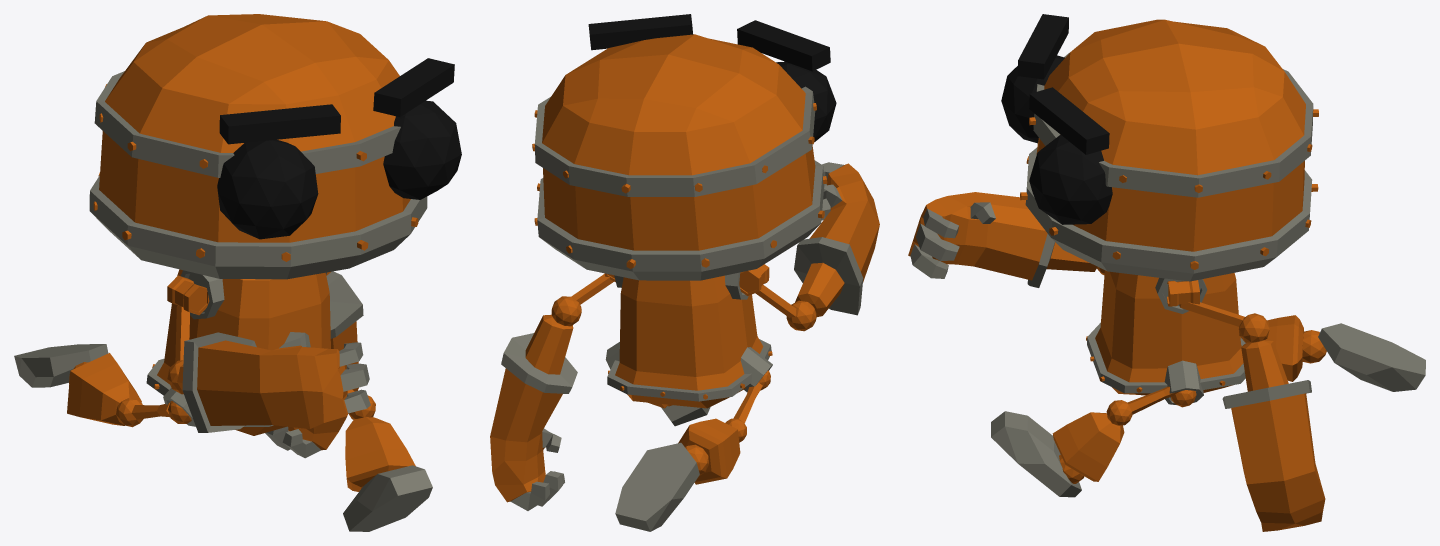
Rendered from Robot_000002.obj.
The picture shows the model from 3 angles, left to right: view 1: azimuth 30°, elevation 25°; view 2: azimuth 150°, elevation 25°; view 3: azimuth 270°, elevation 25°; orthographic projection. The views are drawn at different scales.
Visible parts, largest first — view 1: Head_Cylinder, Hand.R_Cylinder.015, Torso_Cube.001, Foot.L_Cylinder.014, Hand.L_Cylinder.022, LowerLeg.R_Cylinder.018, LowerLeg.L_Cylinder.012, Foot.R_Cylinder.017, Shoulder.R_Cylinder.009, Leg.R_Cylinder.019, Arm.R_Cylinder.013; view 2: Head_Cylinder, Torso_Cube.001, Hand.L_Cylinder.022, Hand.R_Cylinder.015, Foot.R_Cylinder.017, LowerLeg.R_Cylinder.018, Arm.L_Cylinder.010, Arm.R_Cylinder.013, Leg.R_Cylinder.019, Shoulder.R_Cylinder.009, Foot.L_Cylinder.014; view 3: Head_Cylinder, Torso_Cube.001, Hand.L_Cylinder.022, Hand.R_Cylinder.015, Foot.R_Cylinder.017, Foot.L_Cylinder.014, LowerLeg.L_Cylinder.012, LowerLeg.R_Cylinder.018, Arm.L_Cylinder.010, Leg.L_Cylinder.011, Shoulder.L_Cylinder.008.
Boxes of the visible parts, x1,y1,x2,y2 form: Head_Cylinder: [89, 14, 461, 279]; Hand.R_Cylinder.015: [177, 332, 370, 432]; Torso_Cube.001: [146, 269, 330, 435]; Foot.L_Cylinder.014: [343, 465, 432, 531]; Hand.L_Cylinder.022: [265, 271, 363, 458]; LowerLeg.R_Cylinder.018: [67, 353, 141, 425]; LowerLeg.L_Cylinder.012: [345, 416, 415, 491]; Foot.R_Cylinder.017: [14, 344, 108, 387]; Shoulder.R_Cylinder.009: [167, 275, 209, 315]; Leg.R_Cylinder.019: [116, 398, 169, 427]; Arm.R_Cylinder.013: [167, 305, 189, 394]; Head_Cylinder: [532, 14, 836, 280]; Torso_Cube.001: [605, 272, 772, 408]; Hand.L_Cylinder.022: [490, 314, 577, 510]; Hand.R_Cylinder.015: [794, 162, 879, 317]; Foot.R_Cylinder.017: [615, 442, 699, 531]; LowerLeg.R_Cylinder.018: [678, 418, 740, 484]; Arm.L_Cylinder.010: [551, 273, 613, 326]; Arm.R_Cylinder.013: [755, 285, 816, 331]; Leg.R_Cylinder.019: [725, 382, 762, 442]; Shoulder.R_Cylinder.009: [739, 264, 769, 295]; Foot.L_Cylinder.014: [661, 405, 710, 426]; Head_Cylinder: [1001, 14, 1318, 281]; Torso_Cube.001: [1086, 270, 1245, 407]; Hand.L_Cylinder.022: [1222, 339, 1325, 531]; Hand.R_Cylinder.015: [908, 192, 1097, 287]; Foot.R_Cylinder.017: [1318, 323, 1425, 391]; Foot.L_Cylinder.014: [991, 411, 1081, 497]; LowerLeg.L_Cylinder.012: [1052, 412, 1124, 483]; LowerLeg.R_Cylinder.018: [1267, 315, 1326, 381]; Arm.L_Cylinder.010: [1179, 302, 1269, 343]; Leg.L_Cylinder.011: [1106, 386, 1181, 425]; Shoulder.L_Cylinder.008: [1167, 280, 1199, 306].
Size of the model in its own units: 2.63 by 4.11 by 4.36.
